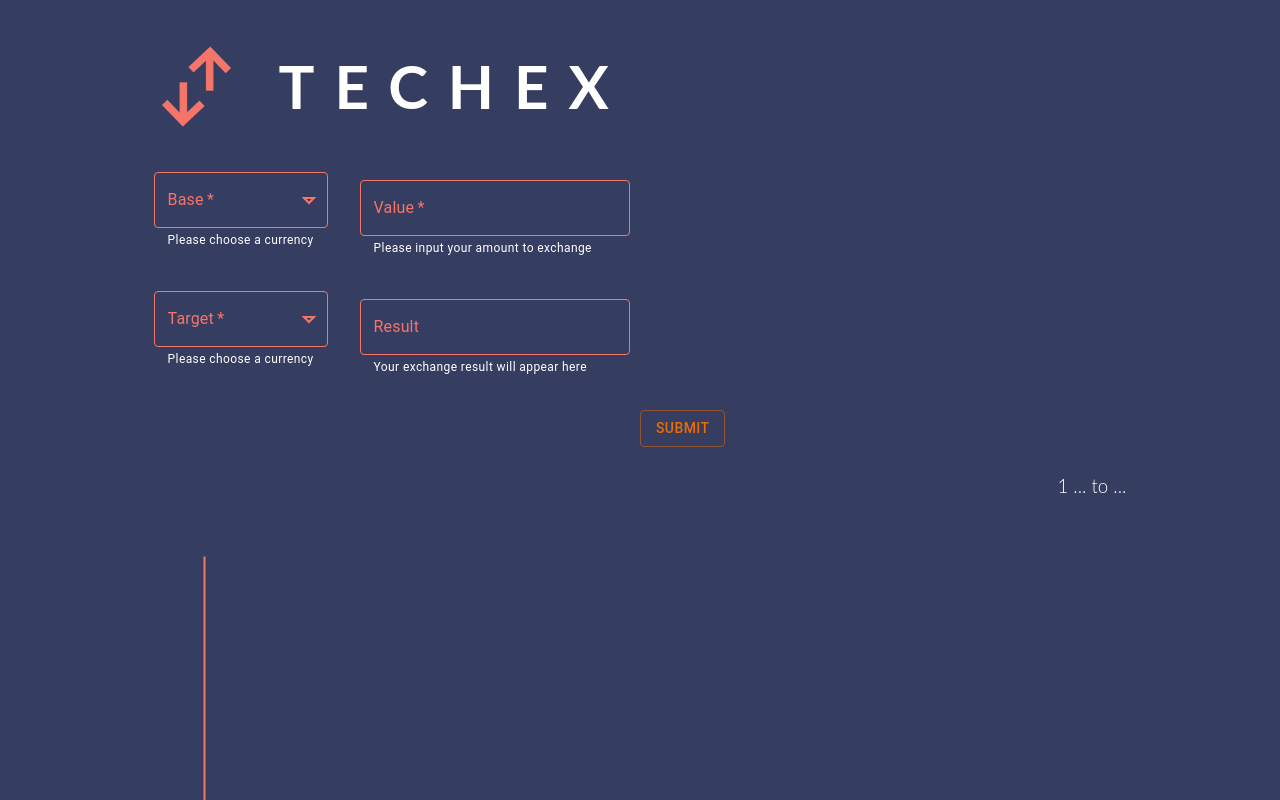
Convert Specification › Null Currencies Check
Click the button named "submit-button".
click(683, 429)  # box [640,410,725,447]
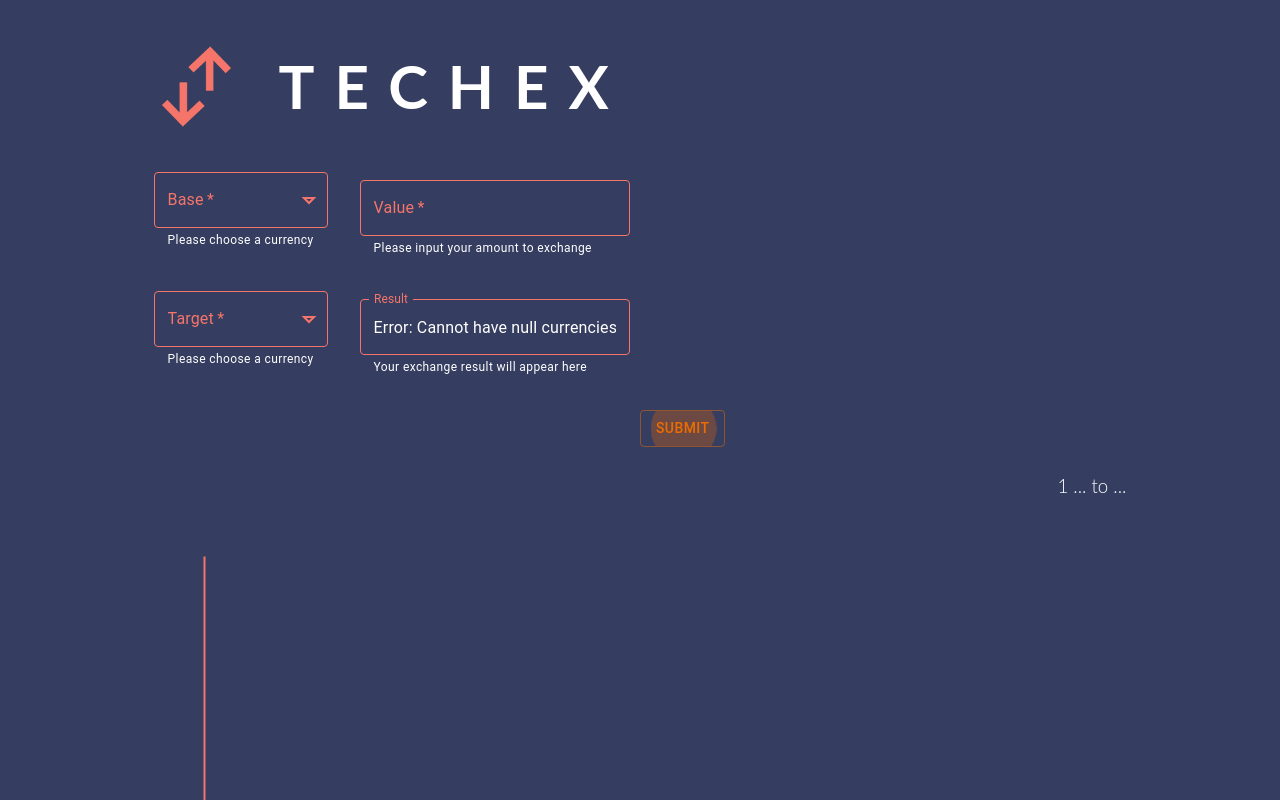
Check: the field named "result-textbox" holds "Error: Cannot have null currencies", box [360,299,631,355]
